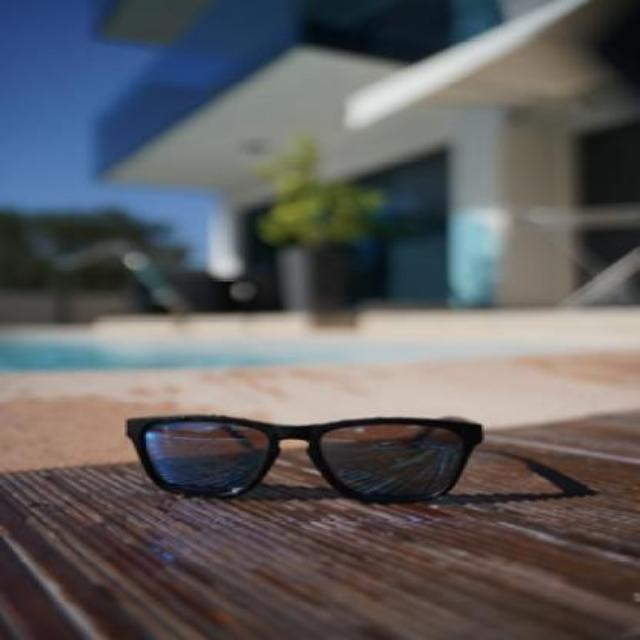glasses: (122, 414, 596, 501)
